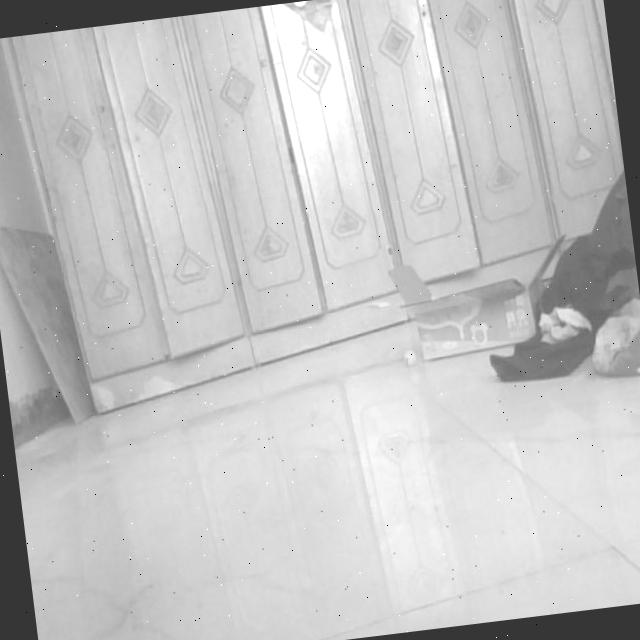ping-pong-ball: (402, 348, 415, 367)
